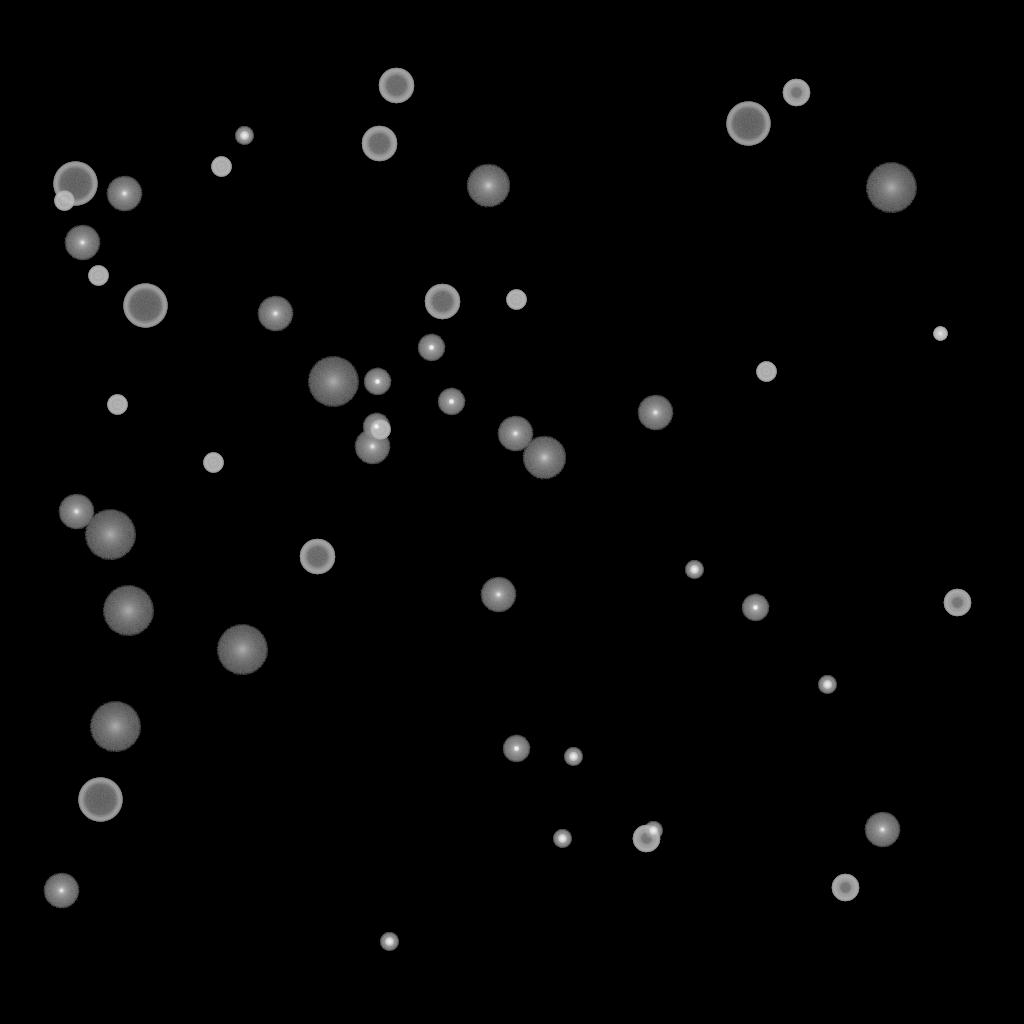depth:-10: (362, 413, 390, 441), (437, 388, 465, 416), (502, 735, 530, 763), (363, 368, 391, 396), (417, 334, 445, 362), (741, 594, 769, 622)
depth:-20: (818, 676, 836, 694), (235, 127, 253, 145), (564, 748, 582, 766), (553, 830, 571, 848), (685, 561, 703, 579), (644, 822, 662, 840), (380, 933, 398, 951)
depth:-30: (933, 327, 947, 341)
depth:-40: (107, 395, 127, 415), (506, 290, 526, 310), (756, 362, 776, 382), (88, 266, 108, 286), (211, 157, 231, 177), (54, 191, 74, 211), (370, 420, 390, 440), (203, 453, 223, 473)
depth:-50: (943, 589, 971, 617), (831, 874, 859, 902), (782, 79, 810, 107), (632, 825, 660, 853)
depth:-60: (299, 539, 335, 575), (424, 284, 460, 320), (378, 68, 414, 104), (361, 126, 397, 162)
depth:-70: (78, 778, 122, 822), (123, 284, 167, 328), (53, 162, 97, 206), (726, 102, 770, 146)
depth:0: (480, 577, 516, 613), (257, 296, 293, 332), (58, 494, 94, 530), (43, 873, 79, 909), (497, 416, 533, 452), (637, 395, 673, 431), (64, 225, 100, 261), (354, 429, 390, 465), (106, 176, 142, 212), (864, 812, 900, 848)
depth:10: (522, 436, 566, 480), (466, 164, 510, 208)
depth:20: (84, 510, 136, 560), (89, 702, 141, 752), (216, 625, 268, 675), (865, 163, 917, 213), (102, 586, 154, 636), (307, 357, 359, 407)
